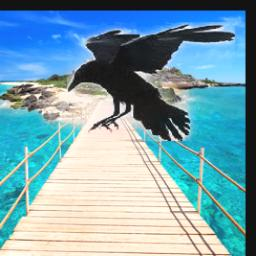Crow: (67, 22, 235, 141)
